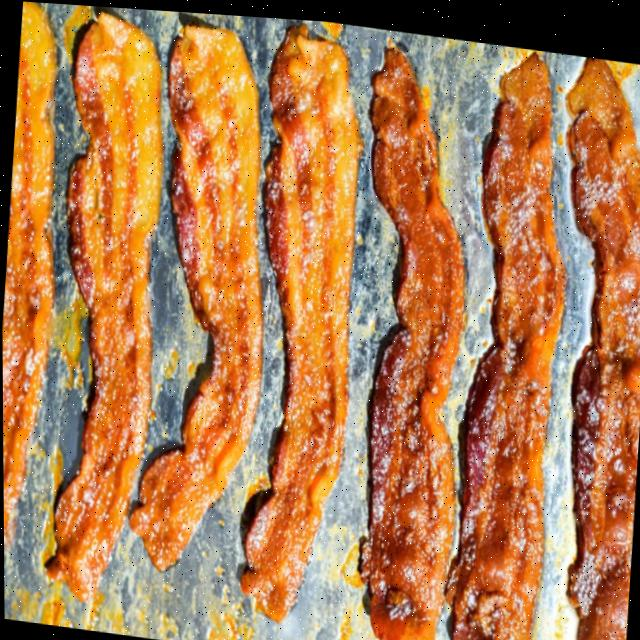Bacon: (128, 22, 261, 568), (445, 46, 564, 640), (240, 22, 358, 616), (45, 12, 161, 600), (358, 42, 463, 640), (566, 52, 640, 640), (2, 1, 55, 544)
